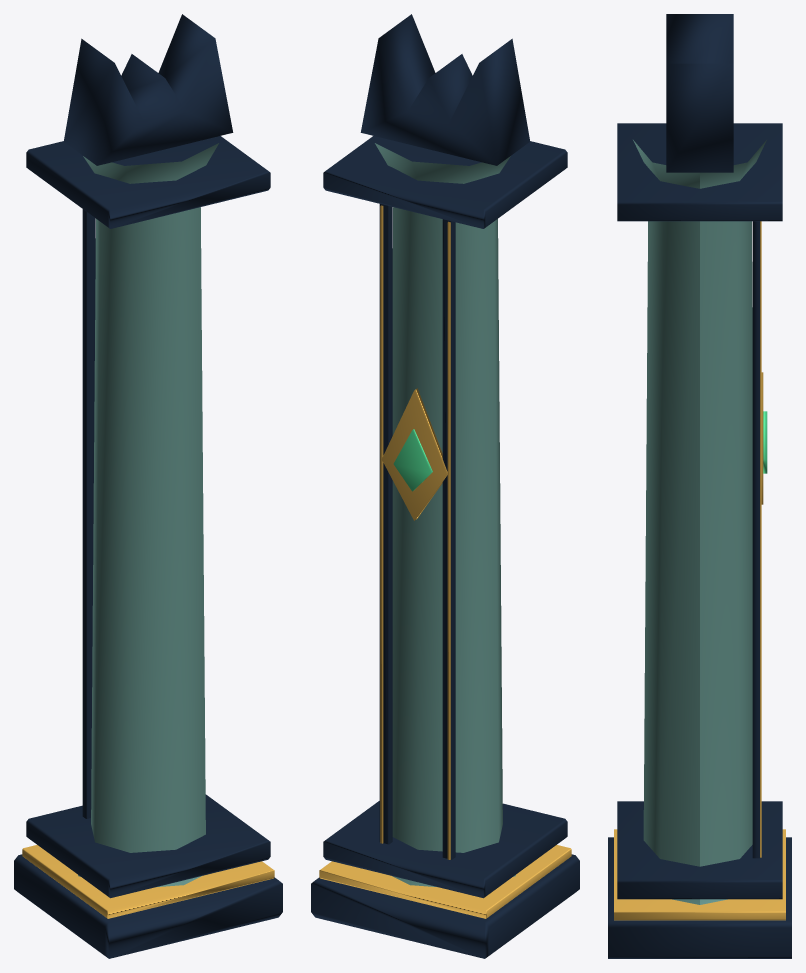
Rendered from prop_0_4.glb.
3 renders of one model, left to right at view 1: azimuth 30°, elevation 25°; view 2: azimuth 150°, elevation 25°; view 3: azimuth 270°, elevation 25°, orthographic.
Parts seen in each view (by area): view 1: CarvedPillar, Cornice (×2), SplitCrown, Plinth, Fluting, PlinthGold; view 2: CarvedPillar, Cornice (×2), SplitCrown, Fluting (×2), Plinth, PlinthGold, GiltFluting (×2), CarvedEye, EyeInset; view 3: CarvedPillar, Cornice (×2), SplitCrown, Plinth, Fluting, PlinthGold, GiltFluting.
Boxes of the visible parts, x1,y1,x2,y2 form: CarvedPillar: (78,143,218,887); Cornice (×2): (26,136,270,898); SplitCrown: (63,14,233,165); Plinth: (14,854,282,958); Fluting: (82,209,95,818); PlinthGold: (22,845,274,918); CarvedPillar: (375,143,515,887); Cornice (×2): (323,136,567,898); SplitCrown: (360,14,530,165); Fluting (×2): (379,204,455,859); Plinth: (311,854,579,958); PlinthGold: (319,845,571,918); GiltFluting (×2): (380,205,450,859); CarvedEye: (381,388,447,520); EyeInset: (393,429,432,491); CarvedPillar: (633,140,766,904); Cornice (×2): (617,123,782,899); SplitCrown: (666,14,733,172); Plinth: (608,837,791,958); Fluting: (752,221,759,858); PlinthGold: (614,829,785,920); GiltFluting: (760,221,761,857).
Size of the model in its own units: 1.7 by 7.9 by 1.5.
